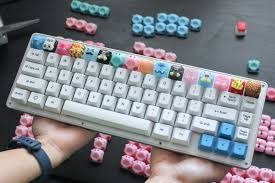keyboard: (5, 13, 269, 172)
